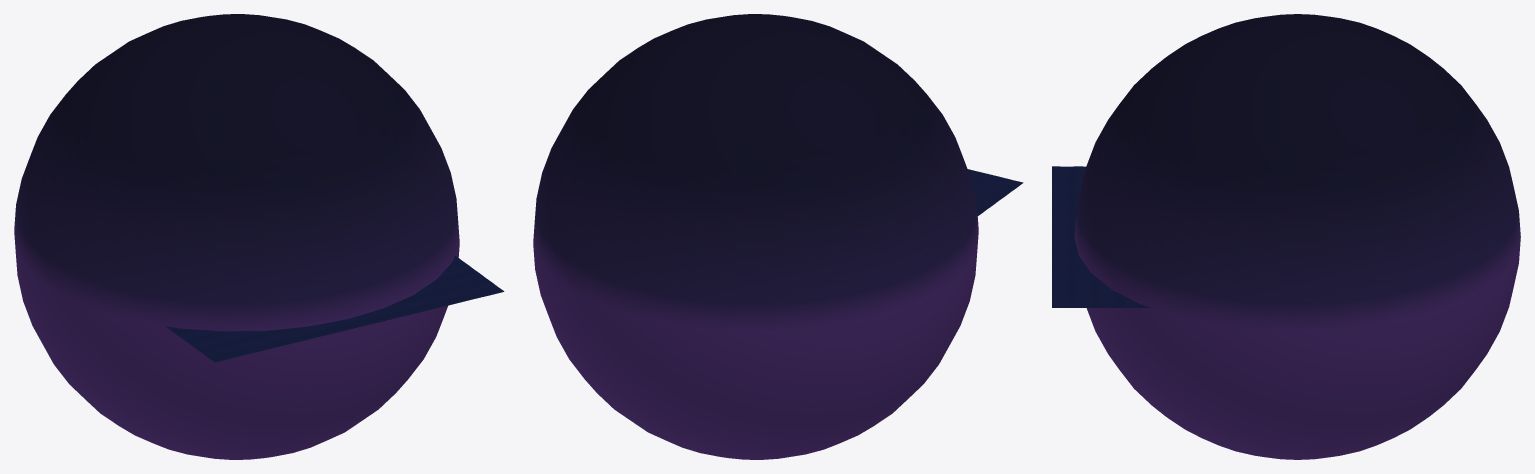
The model's file is cafe_ocean_drive.glb.
3 views of the same model, side by side, from view 1: azimuth 30°, elevation 25°; view 2: azimuth 150°, elevation 25°; view 3: azimuth 270°, elevation 25° (orthographic).
Parts seen in each view (by area): view 1: Sky, Ocean; view 2: Sky, Ocean; view 3: Sky, Ocean.
Boxes of the visible parts, x1,y1,x2,y2 form: Sky: (14,14,459,459); Ocean: (165,255,504,362); Sky: (533,14,978,459); Ocean: (967,169,1023,215); Sky: (1074,14,1520,459); Ocean: (1052,166,1150,307).
Bounding box in the file's own units: 800 × 800 × 840.
